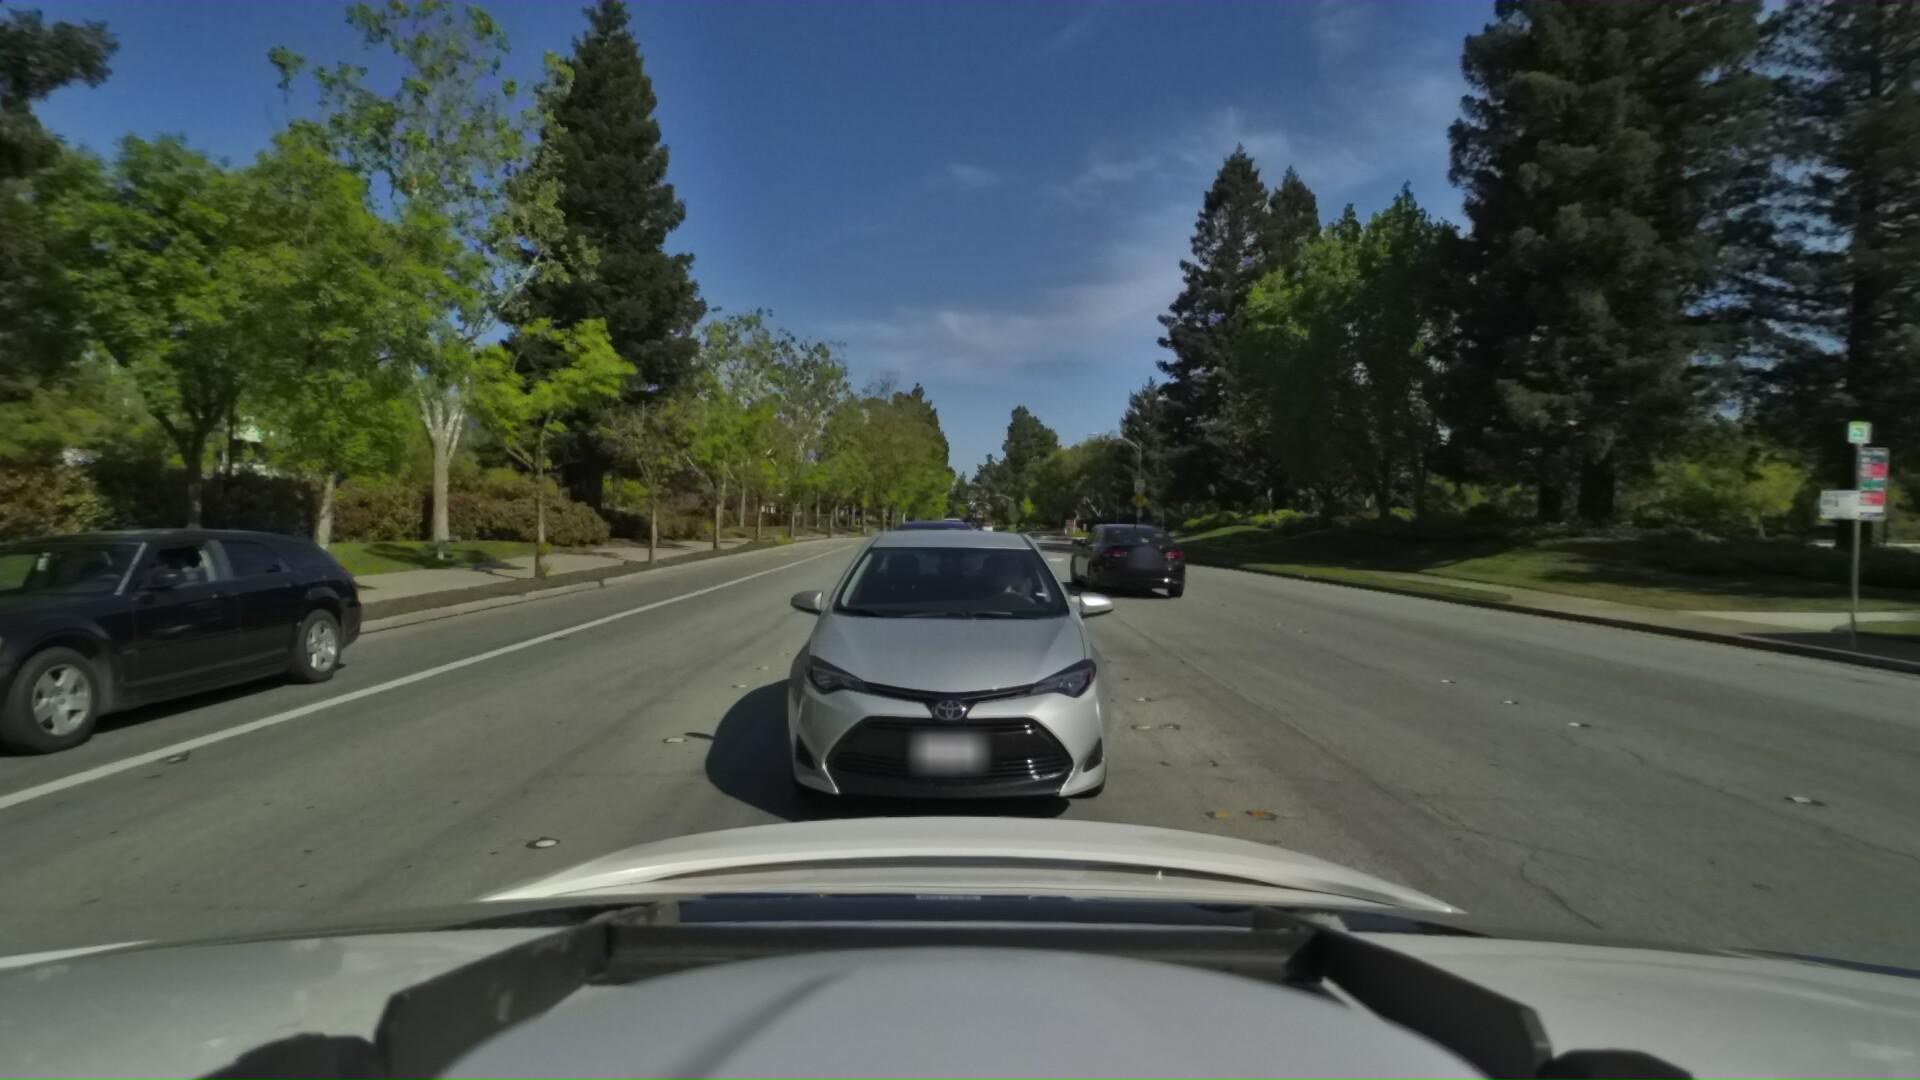car: (753, 500, 1149, 849), (0, 502, 336, 832), (853, 506, 986, 617), (1062, 513, 1188, 592), (1909, 483, 1920, 568), (938, 512, 963, 534)
